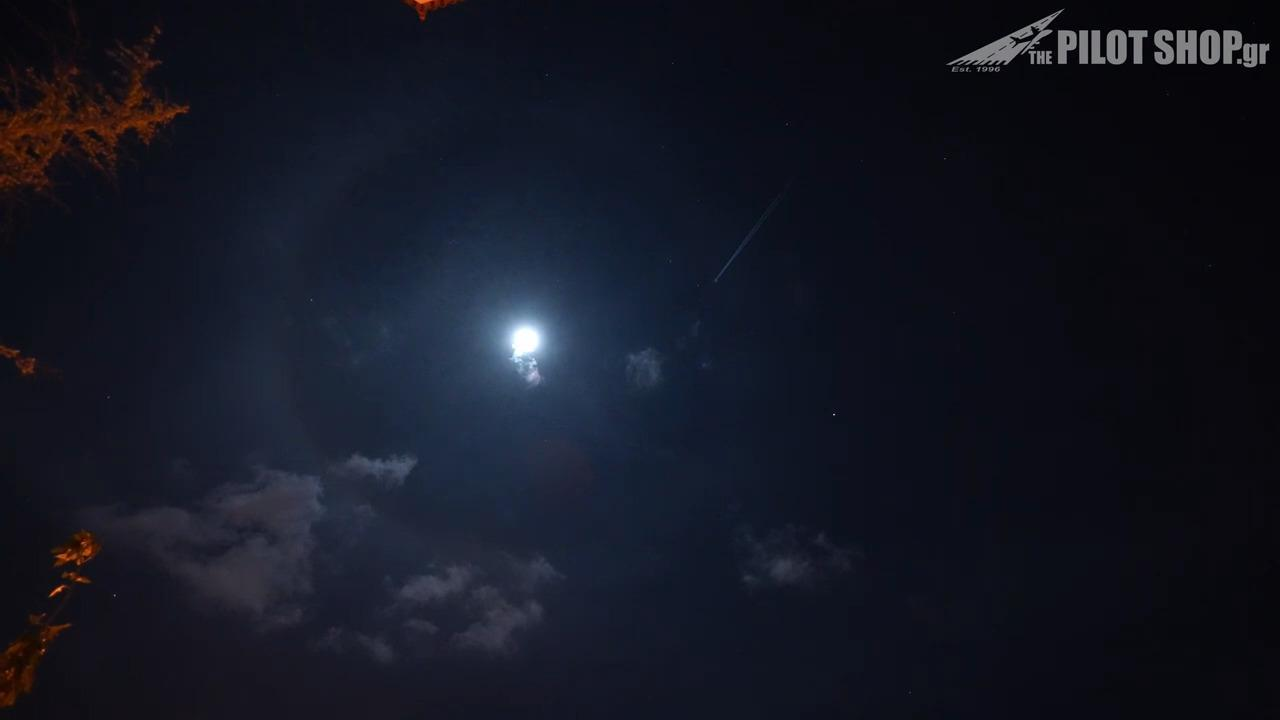Plane: (672, 180, 820, 292)
